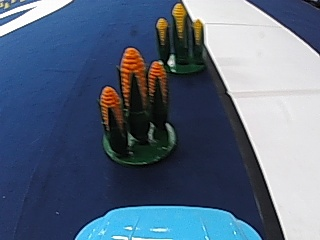corn: (97, 43, 177, 169), (155, 3, 209, 74)
